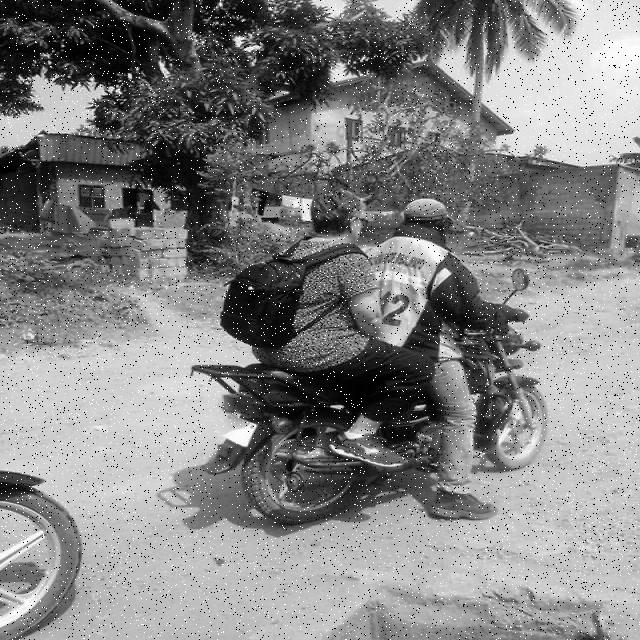Motorbike: (191, 189, 546, 526)
